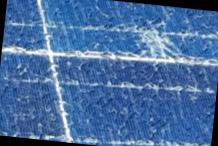Crack: (120, 17, 196, 74)
